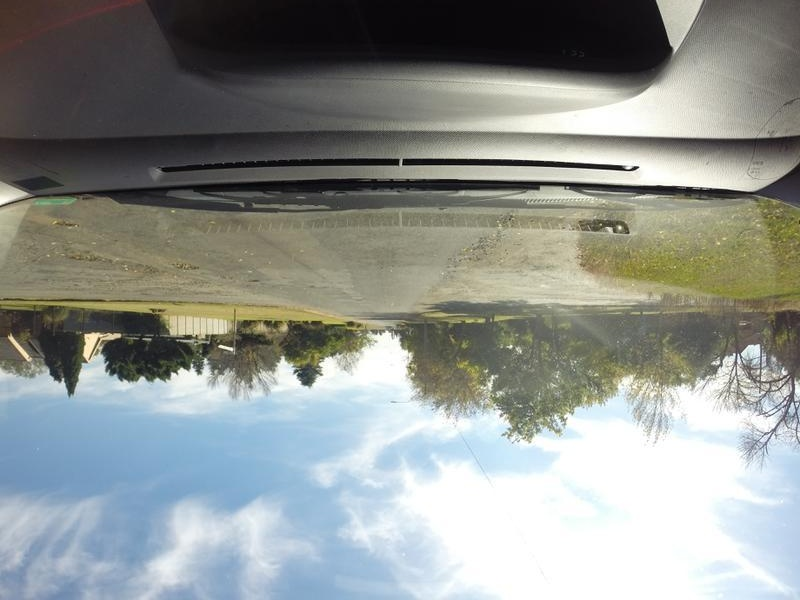pothole: (53, 248, 96, 268), (158, 259, 201, 275), (48, 217, 82, 233)
